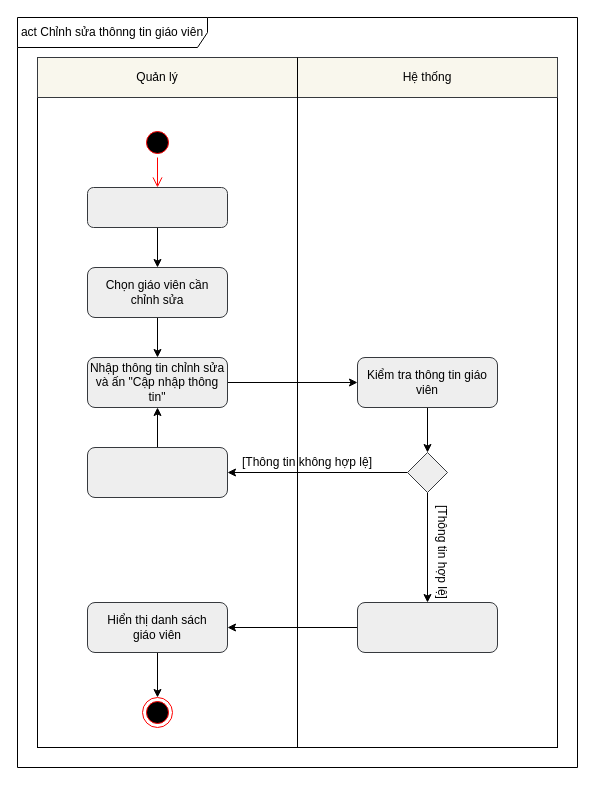
Image size: 595x785. Some labels were removed from this diagram. Each missing label, with the centre of its shape:
Chọn chức năng Danh sách giáo viên: [157,207]
Hiển thị thông báo lỗi, yêu cầu nhập lại thông tin: [157,472]
Thêm giáo viên vào CSDL: [427,627]
